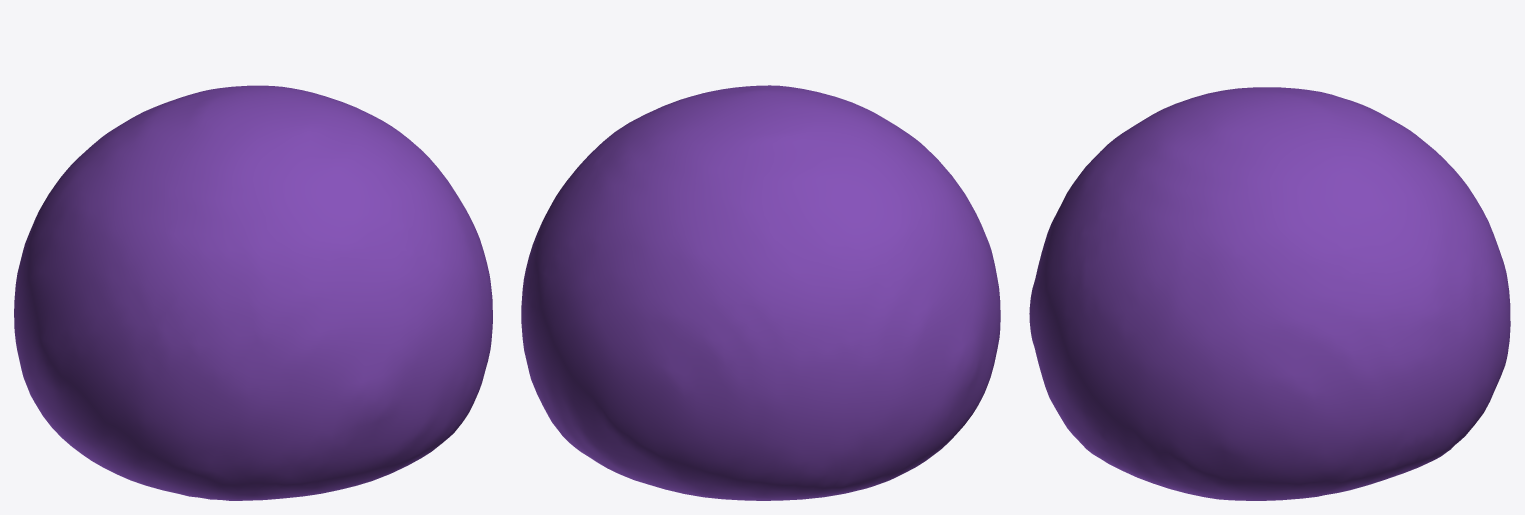
The model's file is slime_0015.dae.
3 views of the same model, side by side, from view 1: azimuth 30°, elevation 25°; view 2: azimuth 150°, elevation 25°; view 3: azimuth 270°, elevation 25° (orthographic).
Parts seen in each view (by area): view 1: Slime; view 2: Slime; view 3: Slime.
Boxes of the visible parts, x1,y1,x2,y2 form: Slime: (14, 85, 492, 500); Slime: (521, 85, 1000, 500); Slime: (1029, 87, 1510, 500).
Size of the model in its own units: 2.06 by 2 by 2.06.
